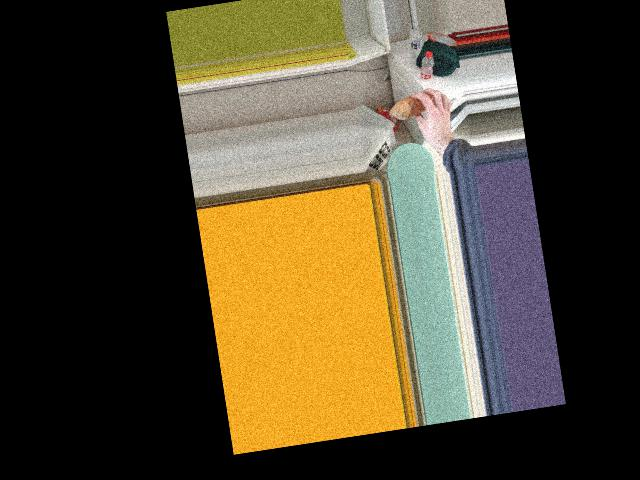sweet_potato: (389, 92, 440, 120)
